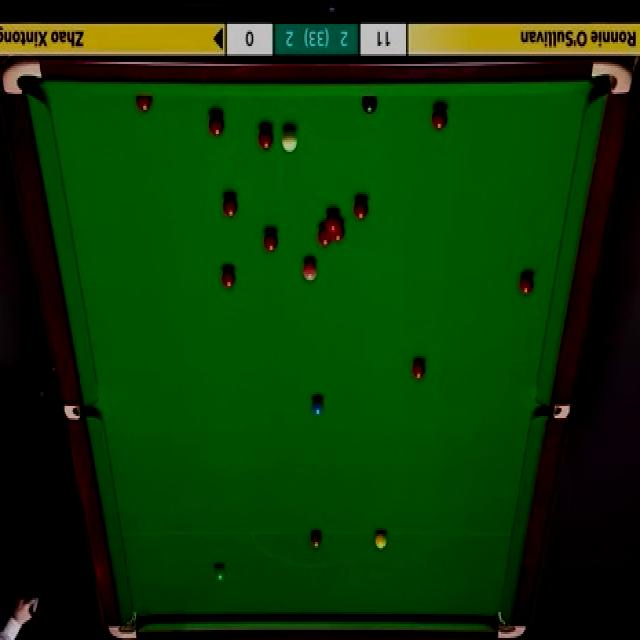black-ball: (360, 94, 378, 115)
blue-ball: (310, 396, 325, 416)
brown-ball: (310, 532, 322, 552)
green-ball: (214, 562, 228, 584)
pink-ball: (301, 256, 318, 281)
red-ball: (264, 229, 282, 255), (432, 105, 449, 132), (133, 96, 155, 115), (220, 265, 236, 291), (258, 124, 274, 150), (208, 113, 226, 136), (222, 195, 238, 220), (520, 272, 536, 295), (353, 196, 368, 220), (412, 359, 427, 382), (332, 218, 346, 242), (318, 222, 331, 246), (324, 210, 340, 229)
white-ball: (283, 127, 297, 151)
yellow-ball: (374, 531, 388, 549)
